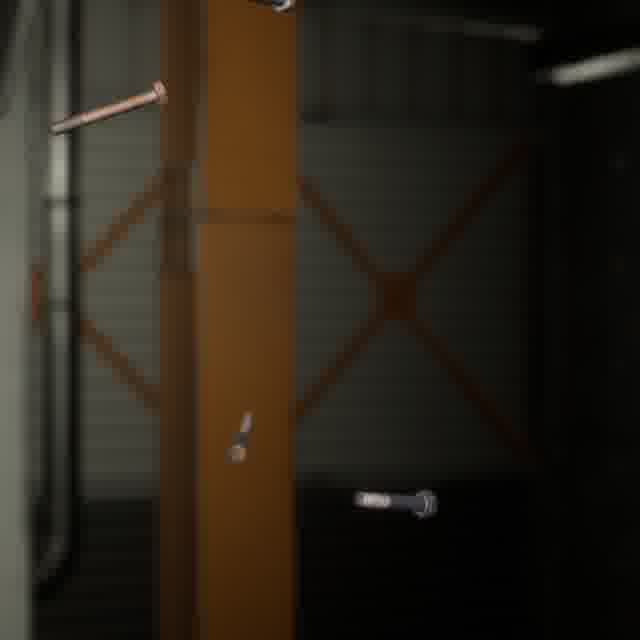bolt: (44, 76, 172, 140), (350, 485, 441, 522), (222, 406, 257, 467)
